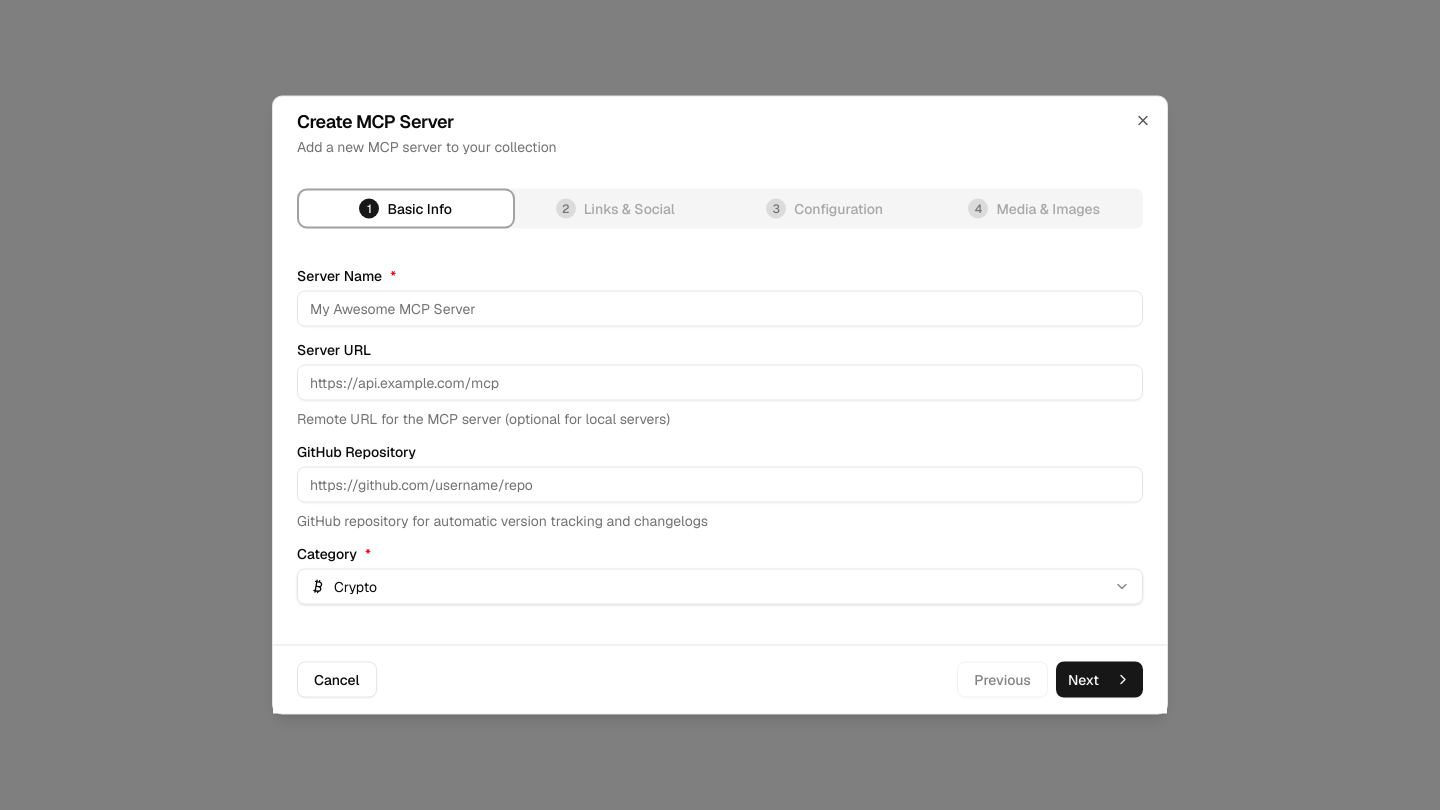
it: CreateMcpServerForm › Validation Failures › should validate URL format for server URL field
In the field with test id "name-input": (720, 308) 297,290 -> 1143,326, type "Test Server"
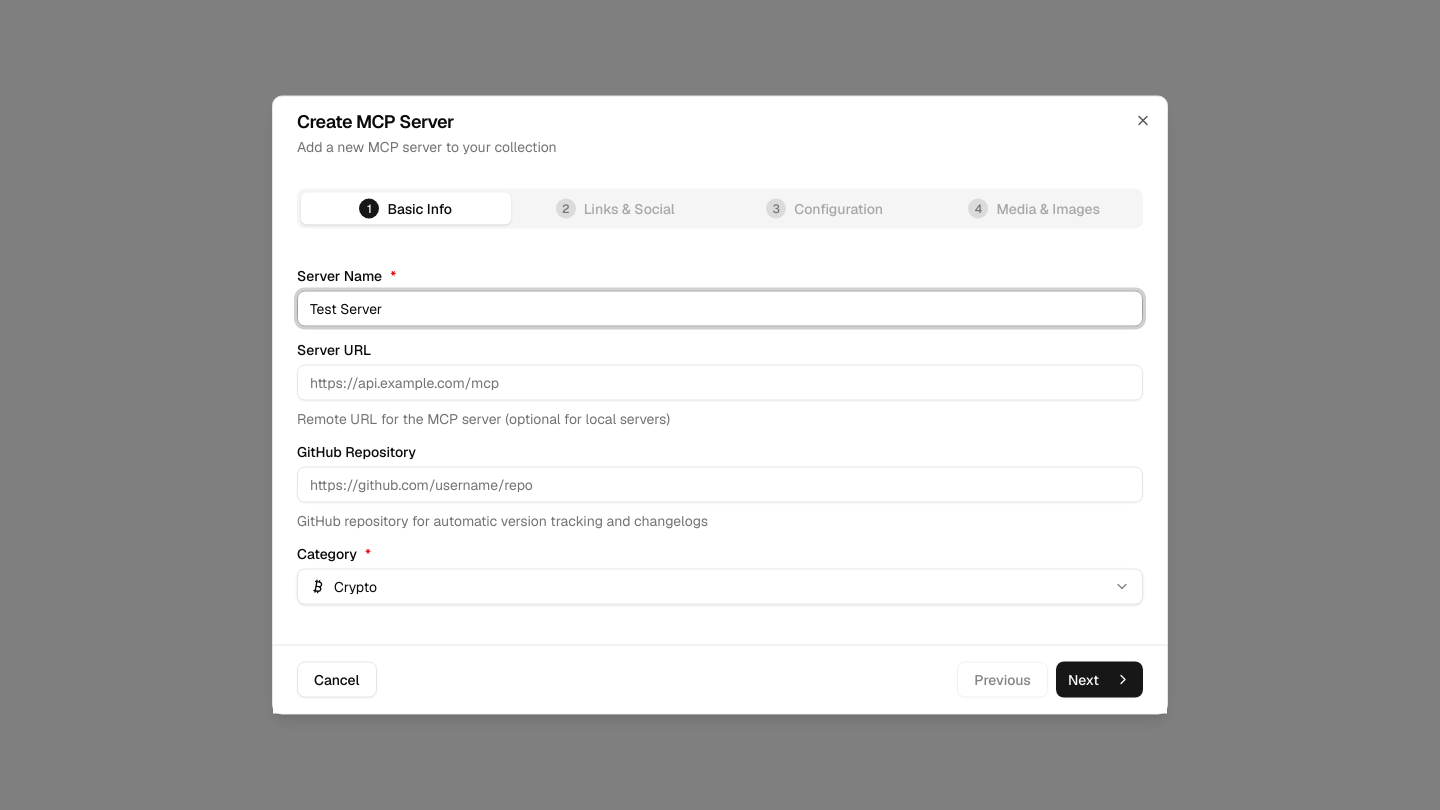
In the field with test id "url-input": (720, 382) 297,364 -> 1143,400, type "invalid-url"
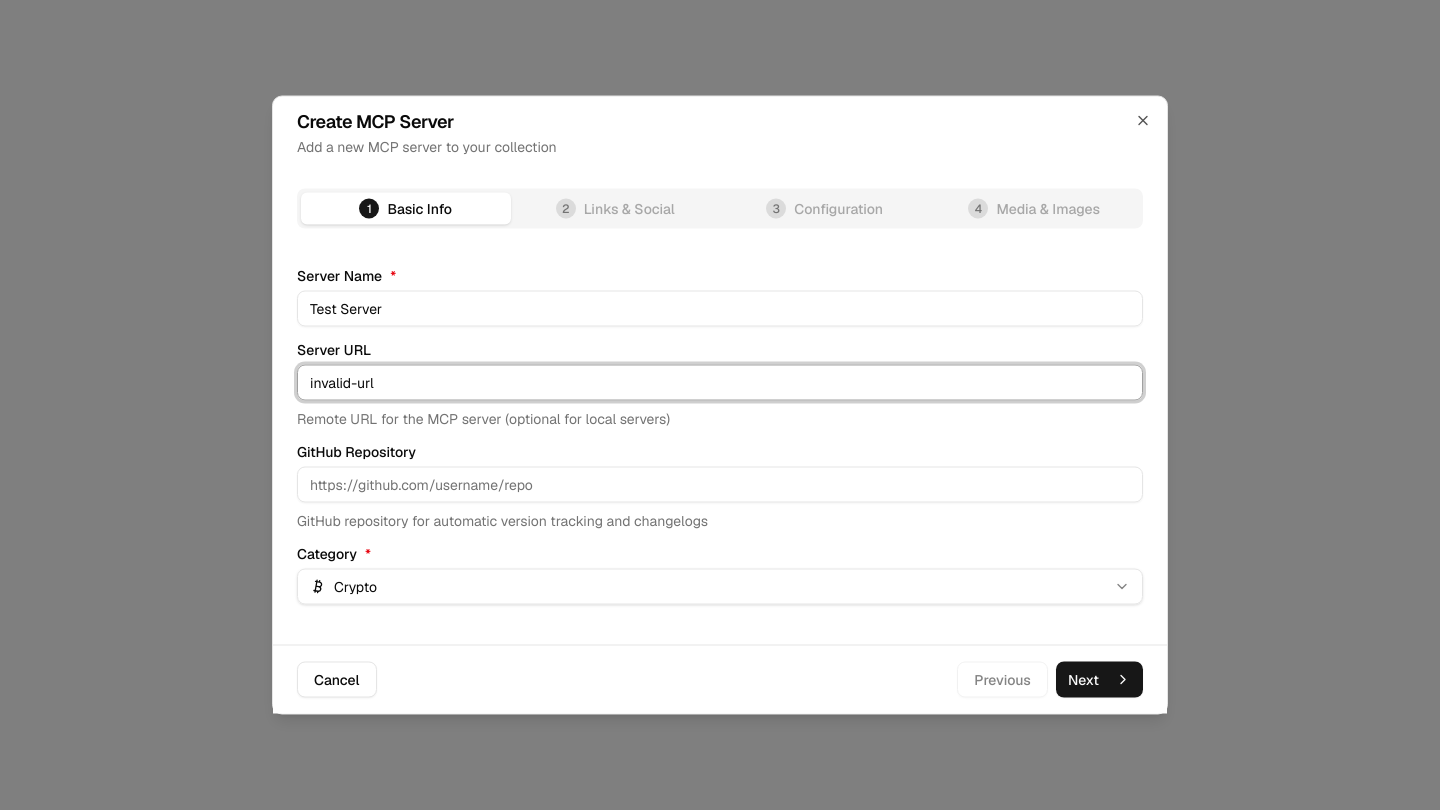
Click the button with test id "next-button": (1099, 680) 1056,662 -> 1143,698
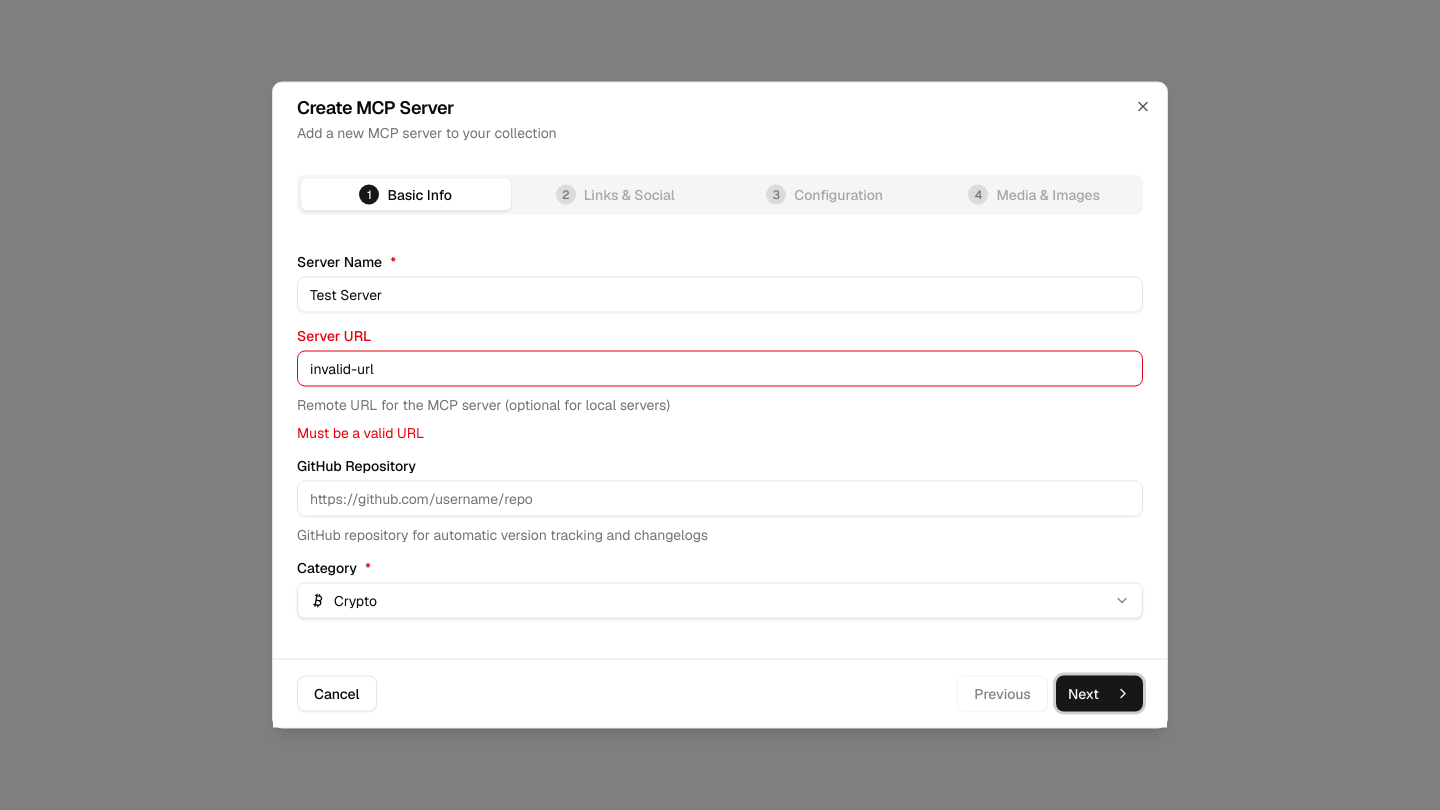
Now the text "Must be a valid URL" is shown, box 297,424 -> 424,442
